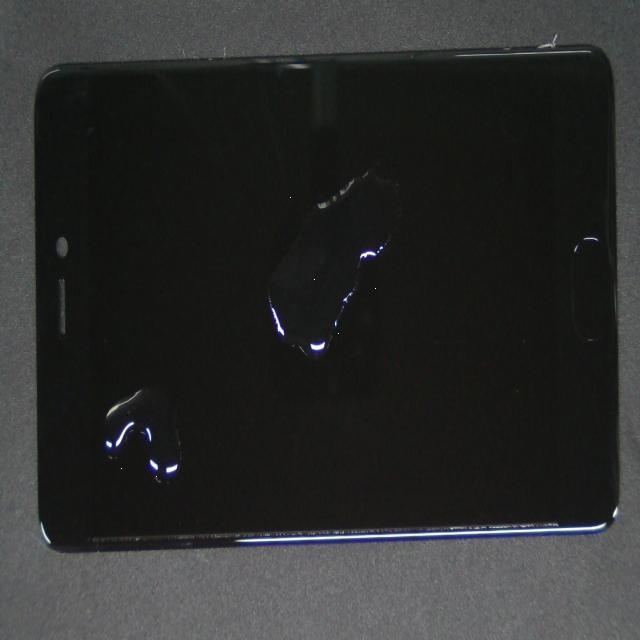oil: (160, 88, 423, 355), (94, 185, 205, 578)
